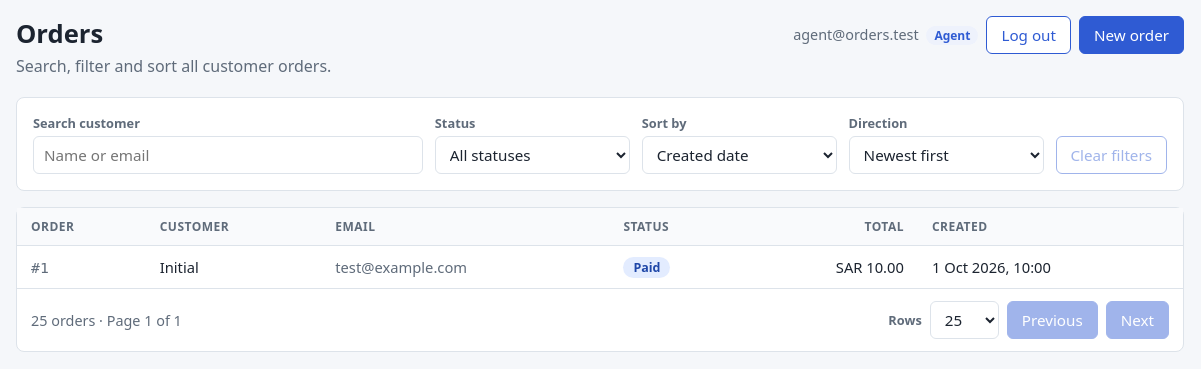
it: OrdersConsole: latest request wins › shows only the latest result when the status filter changes 3 times and responses arrive out of order
The image size is (1201, 369).
Expected: the text "Initial" is shown, [146,246,321,288]
# Three quick changes, before any response comes back.
Select "Paid" in the dropdown labelled "Status" at (532, 155), box [435,136,630,174]
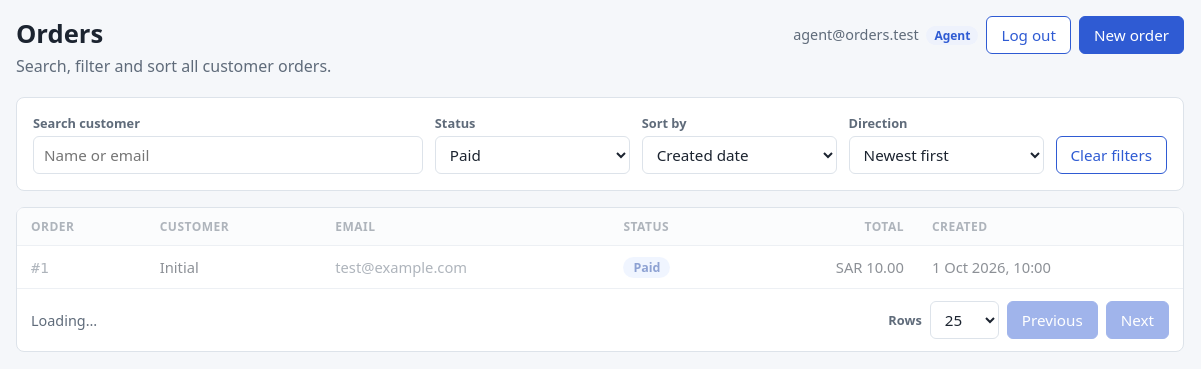
Select "Pending" in the dropdown labelled "Status" at (532, 155), box [435,136,630,174]
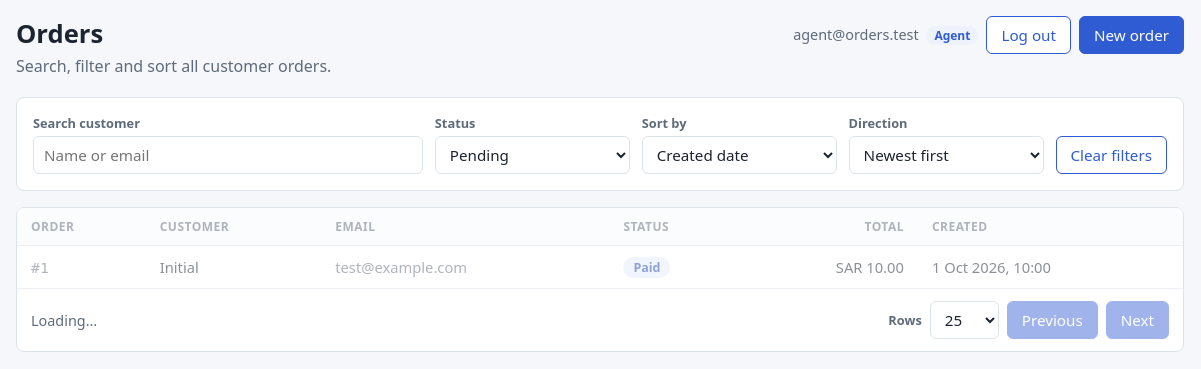
Select "Shipped" in the dropdown labelled "Status" at (532, 155), box [435,136,630,174]
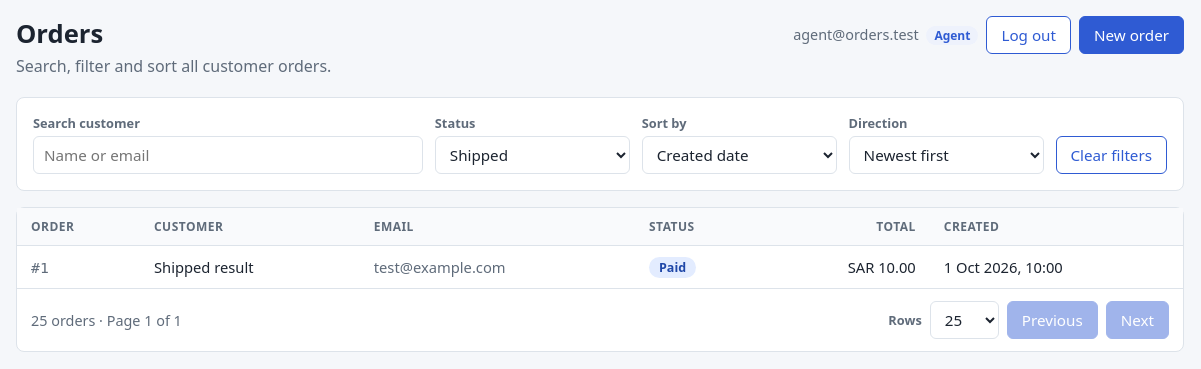
Expected: the text "Shipped result" is shown, [140,246,360,288]
